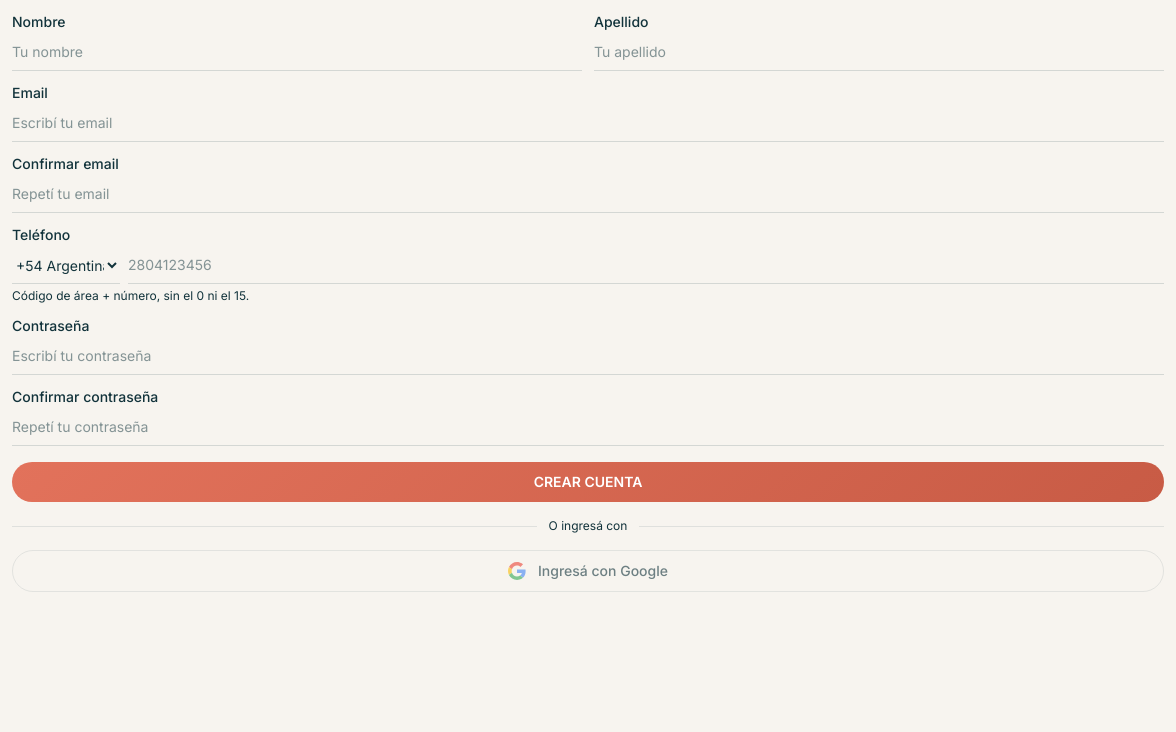
Scenario: RegisterForm › email y confirmar email distintos: no envía, muestra error propio (sin pegarle al backend)
Type "Ana" into the field labelled "Nombre".
click(297, 52); type("Ana")  # box [12,34,582,71]
Type "Pérez" into the field labelled "Apellido".
click(879, 52); type("Pérez")  # box [594,34,1164,71]
Type "ana@example.com" into the field labelled "Email".
click(588, 124); type("ana@example.com")  # box [12,105,1164,142]
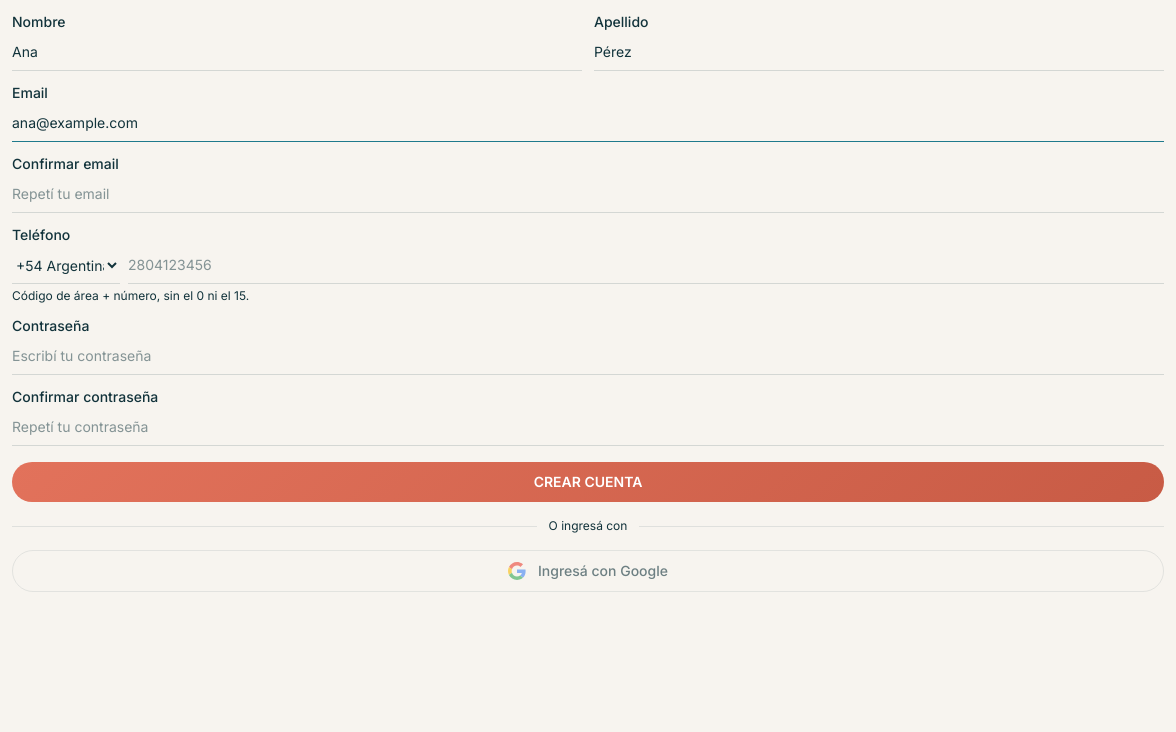
Type "ana@example.com" into the field labelled "Confirmar email".
click(588, 194); type("ana@example.com")  # box [12,176,1164,213]
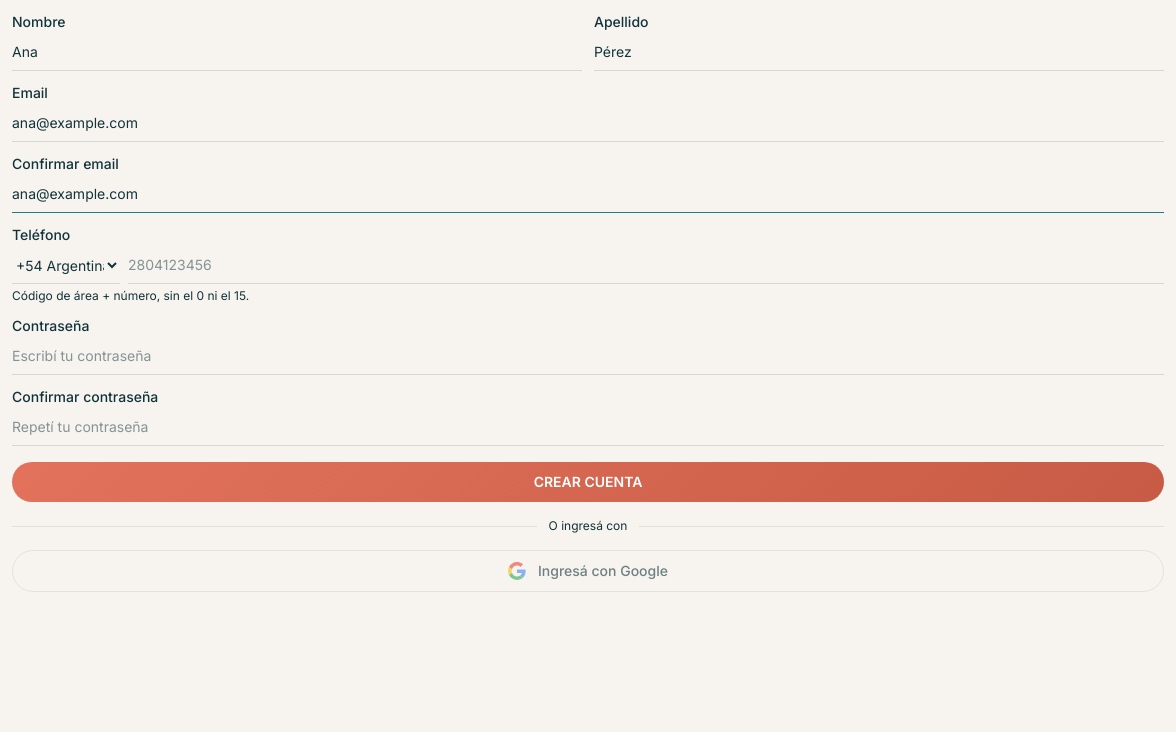
Type "password123" into the password field labelled "Contraseña".
click(588, 356); type("password123")  # box [12,338,1164,375]
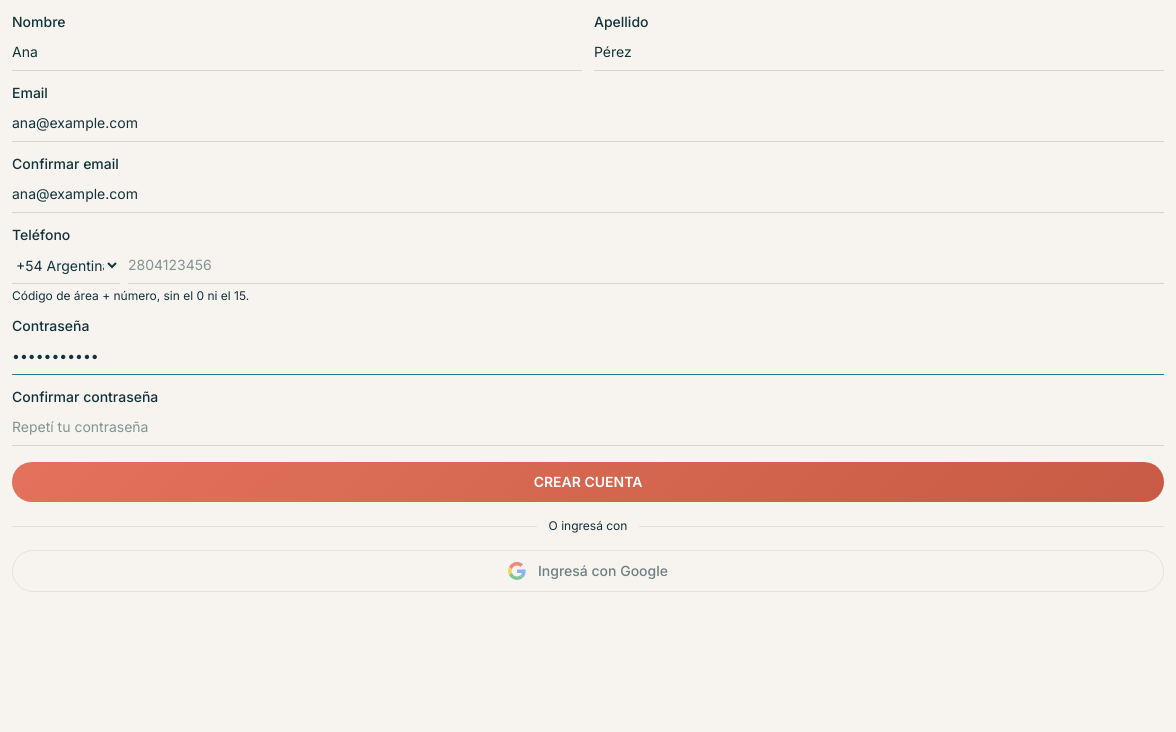
Type "password123" into the password field labelled "Confirmar contraseña".
click(588, 428); type("password123")  # box [12,409,1164,446]
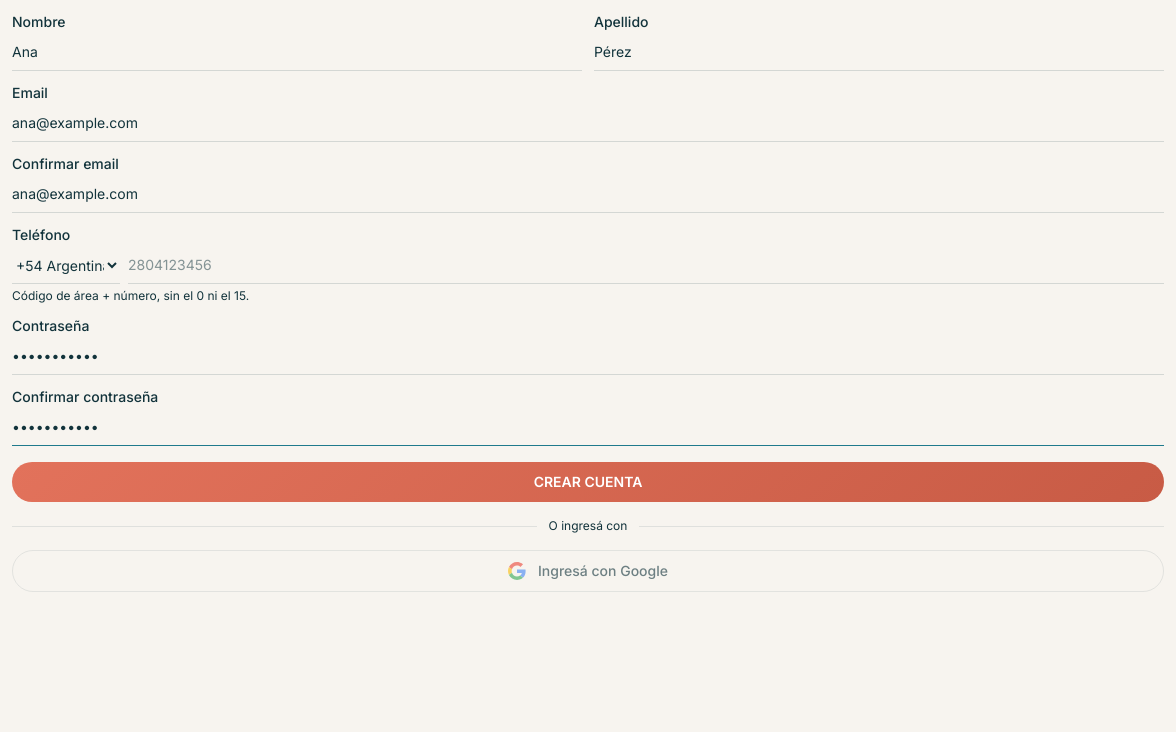
Replace the text in the field labelled "Confirmar email" with "otro@example.com" at (588, 194), box [12,176,1164,213]
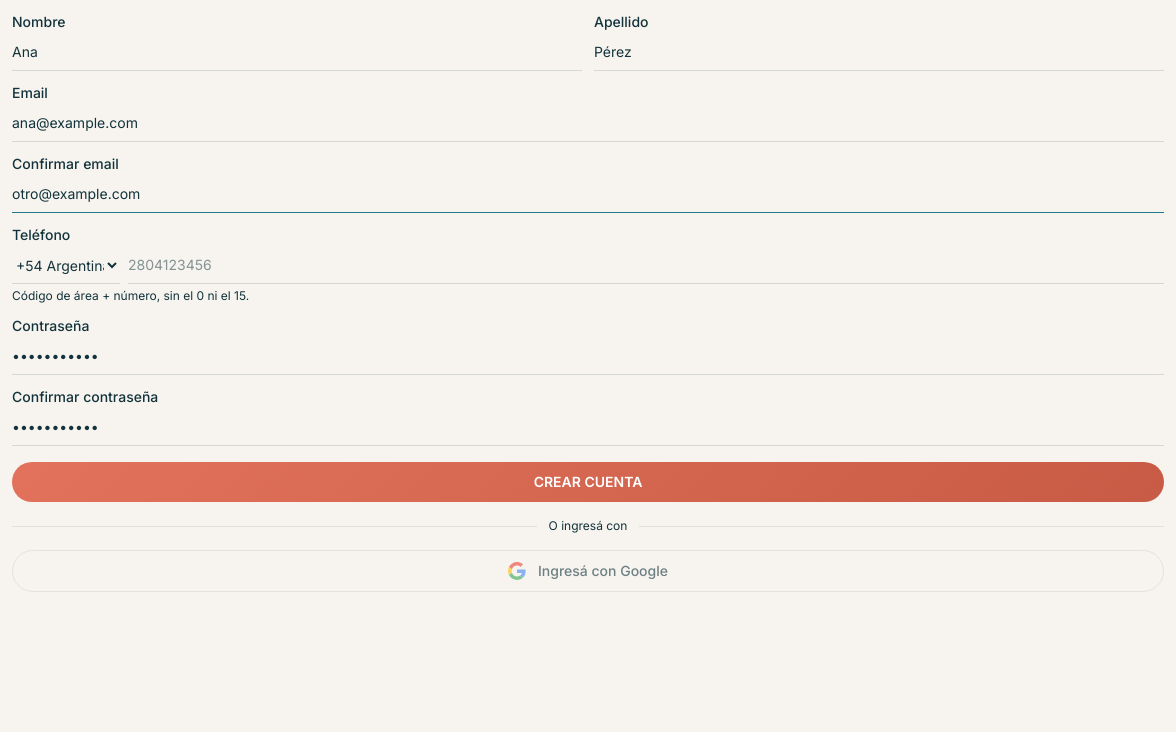
Click the button "Crear cuenta".
click(588, 482)  # box [12,462,1164,502]
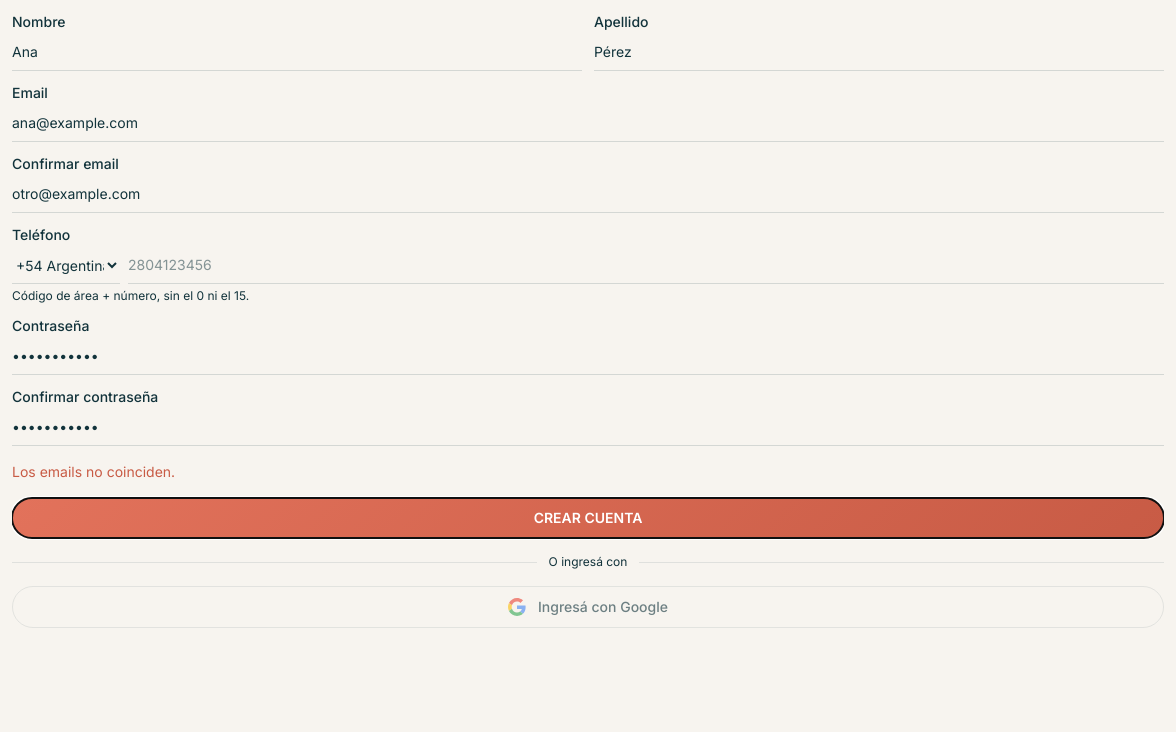
Expected: the message reads "Los emails no coinciden.", [12,463,175,480]
